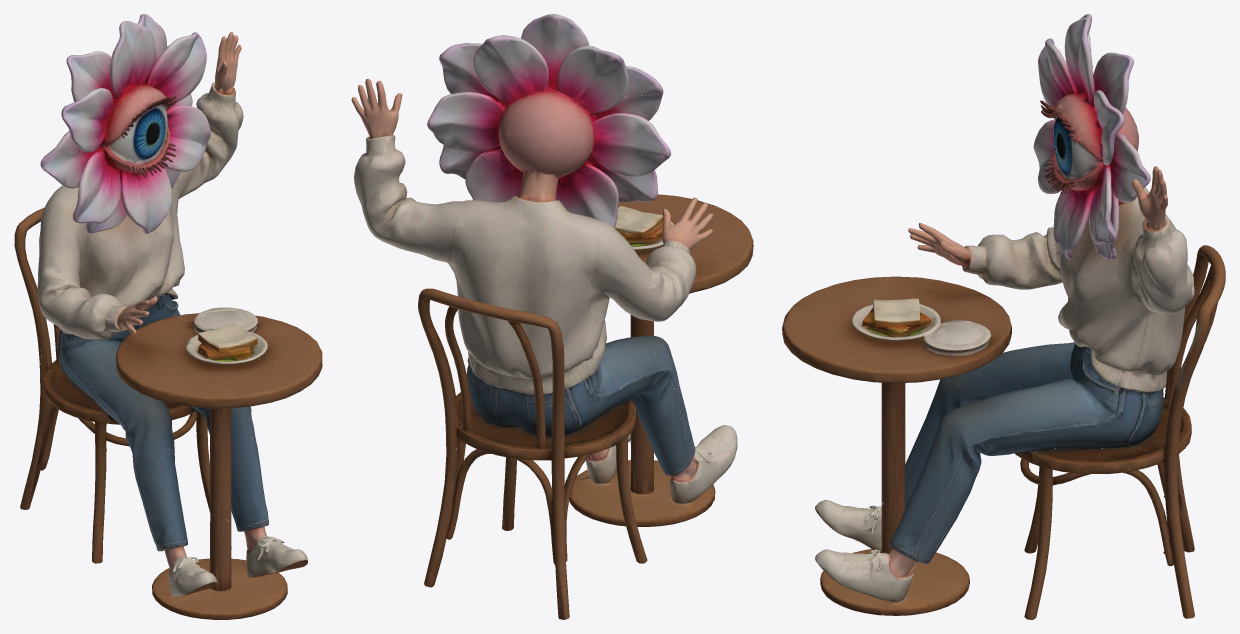
Rendered from sally.glb.
3 renders of one model, left to right at view 1: azimuth 30°, elevation 25°; view 2: azimuth 150°, elevation 25°; view 3: azimuth 270°, elevation 25°, orthographic. The views are drawn at different scales.
Parts seen in each view (by area): view 1: tripo_node_7916a89c-a101-44cf-a692-2e2f98568ff6; view 2: tripo_node_7916a89c-a101-44cf-a692-2e2f98568ff6; view 3: tripo_node_7916a89c-a101-44cf-a692-2e2f98568ff6.
Boxes of the visible parts, x1,y1,x2,y2 form: tripo_node_7916a89c-a101-44cf-a692-2e2f98568ff6: (14,14,322,619); tripo_node_7916a89c-a101-44cf-a692-2e2f98568ff6: (351,14,753,619); tripo_node_7916a89c-a101-44cf-a692-2e2f98568ff6: (782,14,1225,619).
Bounding box in the file's own units: 0.5128 × 1 × 0.7162.
1 material, 1 textured.
